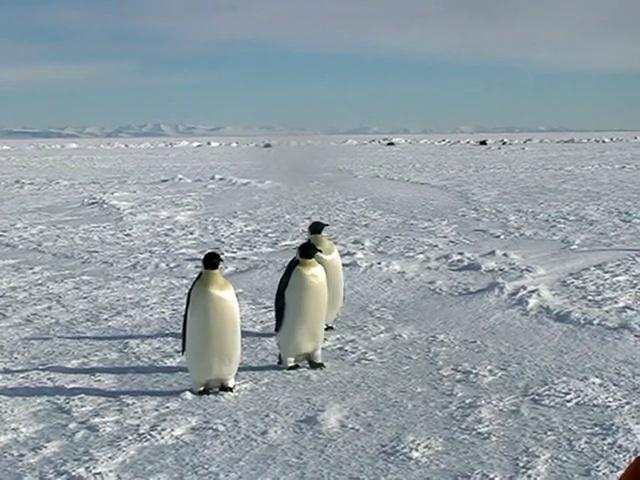animal: (310, 222, 345, 330)
